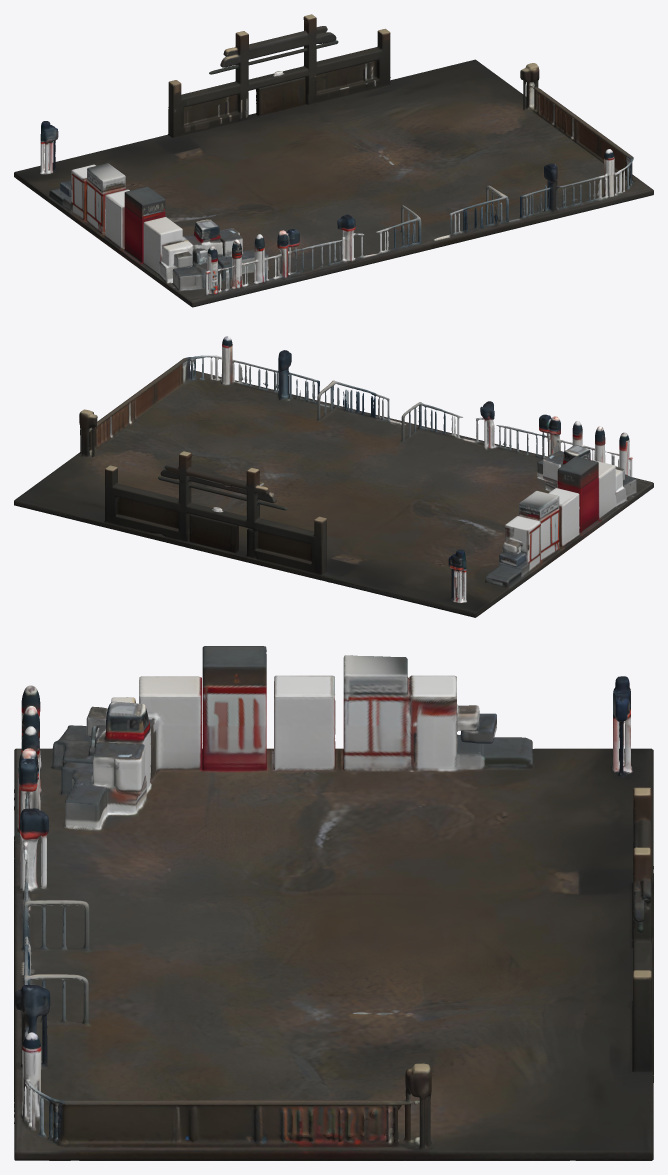
Rendered from chuhematou.glb.
The picture shows the model from 3 angles, top to bottom: view 1: azimuth 30°, elevation 25°; view 2: azimuth 150°, elevation 25°; view 3: azimuth 270°, elevation 25°; orthographic projection. The views are drawn at different scales.
Parts seen in each view (by area): view 1: tripo_node_78fccf16-ead2-4ac5-8fc7-53c1b9b18553; view 2: tripo_node_78fccf16-ead2-4ac5-8fc7-53c1b9b18553; view 3: tripo_node_78fccf16-ead2-4ac5-8fc7-53c1b9b18553.
Part boxes in pixels (x1,y1,x2,y2): tripo_node_78fccf16-ead2-4ac5-8fc7-53c1b9b18553: [14, 14, 653, 307]; tripo_node_78fccf16-ead2-4ac5-8fc7-53c1b9b18553: [14, 336, 653, 617]; tripo_node_78fccf16-ead2-4ac5-8fc7-53c1b9b18553: [14, 646, 653, 1160].
Bounding box in the file's own units: 1 × 0.189 × 0.6699.
Materials: 1 (1 with a texture image).
